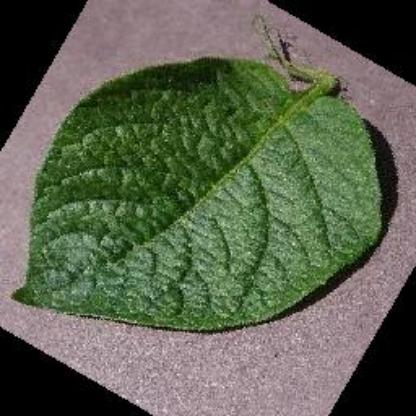Healthy-plant: (12, 46, 398, 330)
